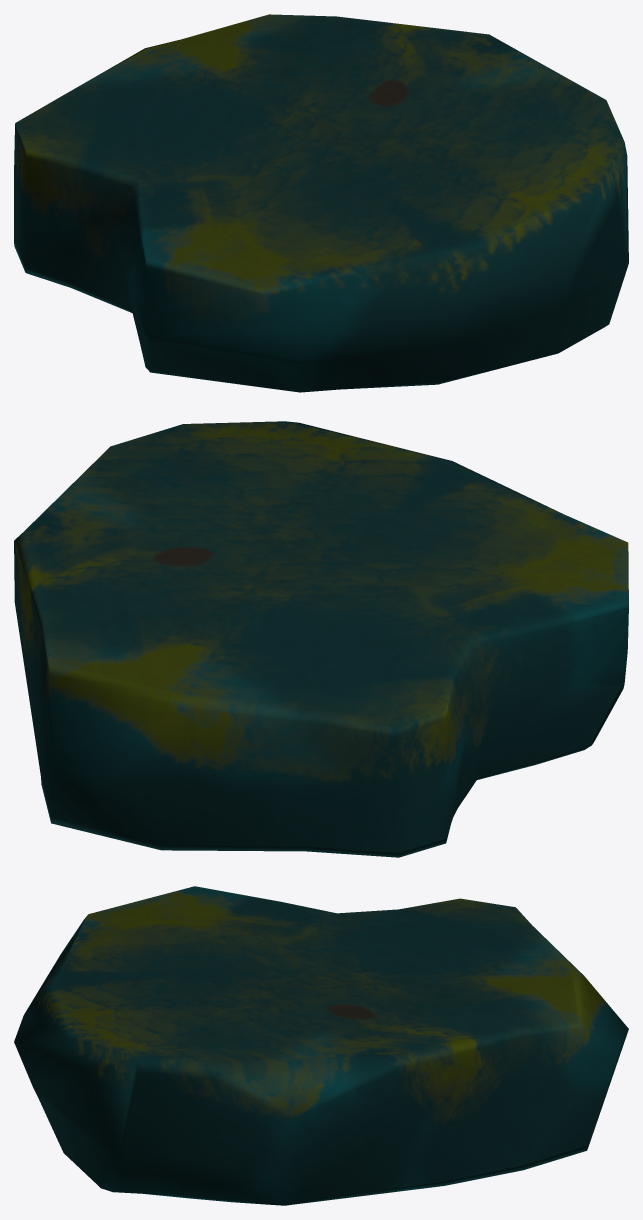
The model's file is stone04.fbx.
3 renders of one model, top to bottom at view 1: azimuth 30°, elevation 25°; view 2: azimuth 150°, elevation 25°; view 3: azimuth 270°, elevation 25°, orthographic. The views are drawn at different scales.
Parts seen in each view (by area): view 1: stone01; view 2: stone01; view 3: stone01.
Boxes of the visible parts, x1,y1,x2,y2 form: stone01: [14, 14, 628, 392]; stone01: [14, 421, 628, 857]; stone01: [14, 886, 628, 1205].
Size of the model in its own units: 3.13 by 1.05 by 3.8.
1 material, 1 textured.
